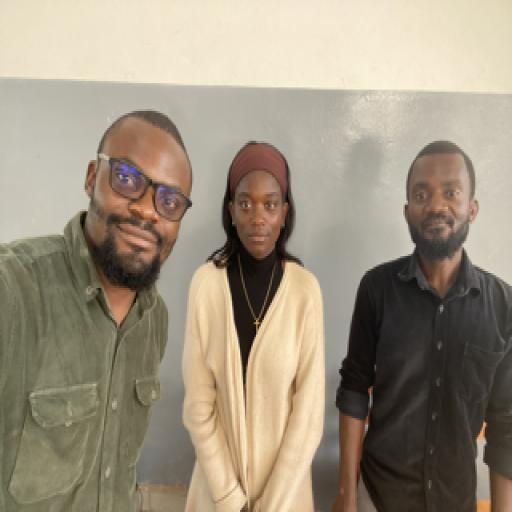JEANLUC: (83, 89, 194, 292)
LAURENE: (221, 142, 292, 268)
MATTHIEU: (400, 125, 484, 273)
